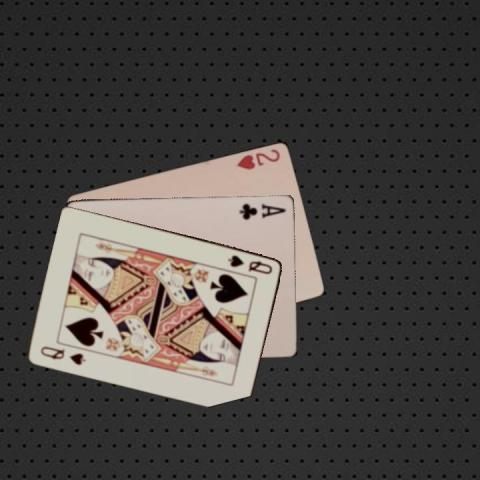2h: (234, 145, 282, 171)
Ac: (236, 200, 287, 220)
Qs: (37, 342, 87, 366), (225, 252, 274, 275)
